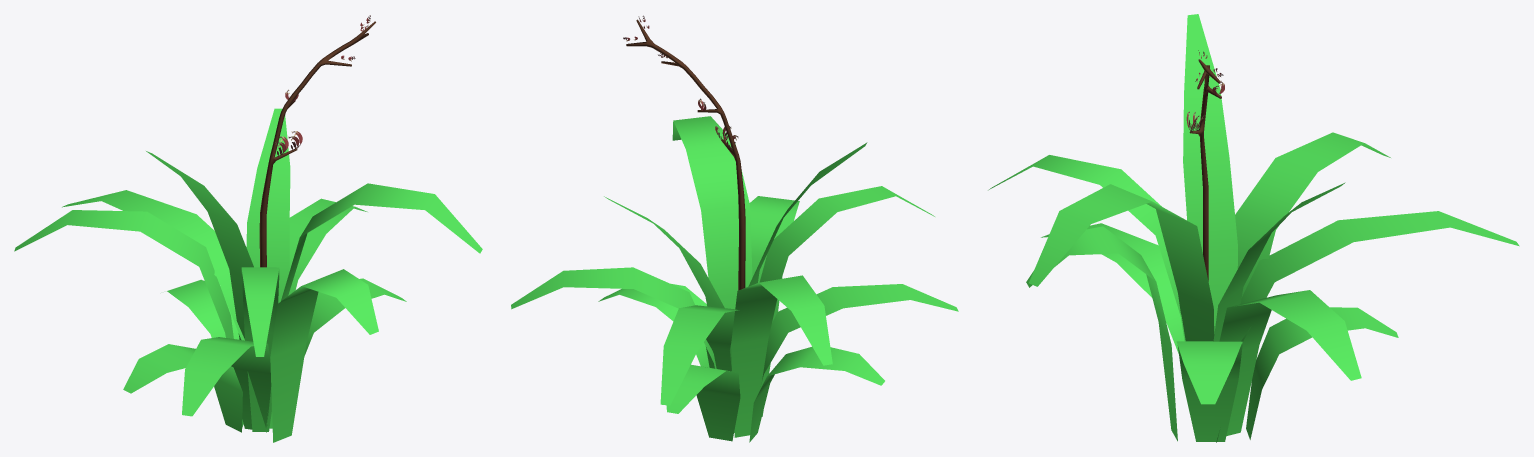
The model's file is harakeke test.fbx.
The picture shows the model from 3 angles, left to right: view 1: azimuth 30°, elevation 25°; view 2: azimuth 150°, elevation 25°; view 3: azimuth 270°, elevation 25°; orthographic projection. The views are drawn at different scales.
Parts seen in each view (by area): view 1: Plane.006; view 2: Plane.006; view 3: Plane.006.
Part boxes in pixels (<box>): Plane.006: <box>14,15,482,442</box>; Plane.006: <box>511,15,958,442</box>; Plane.006: <box>988,14,1519,442</box>.
Bounding box in the file's own units: 71.17 × 78.41 × 85.35.
3 materials, 1 textured.
